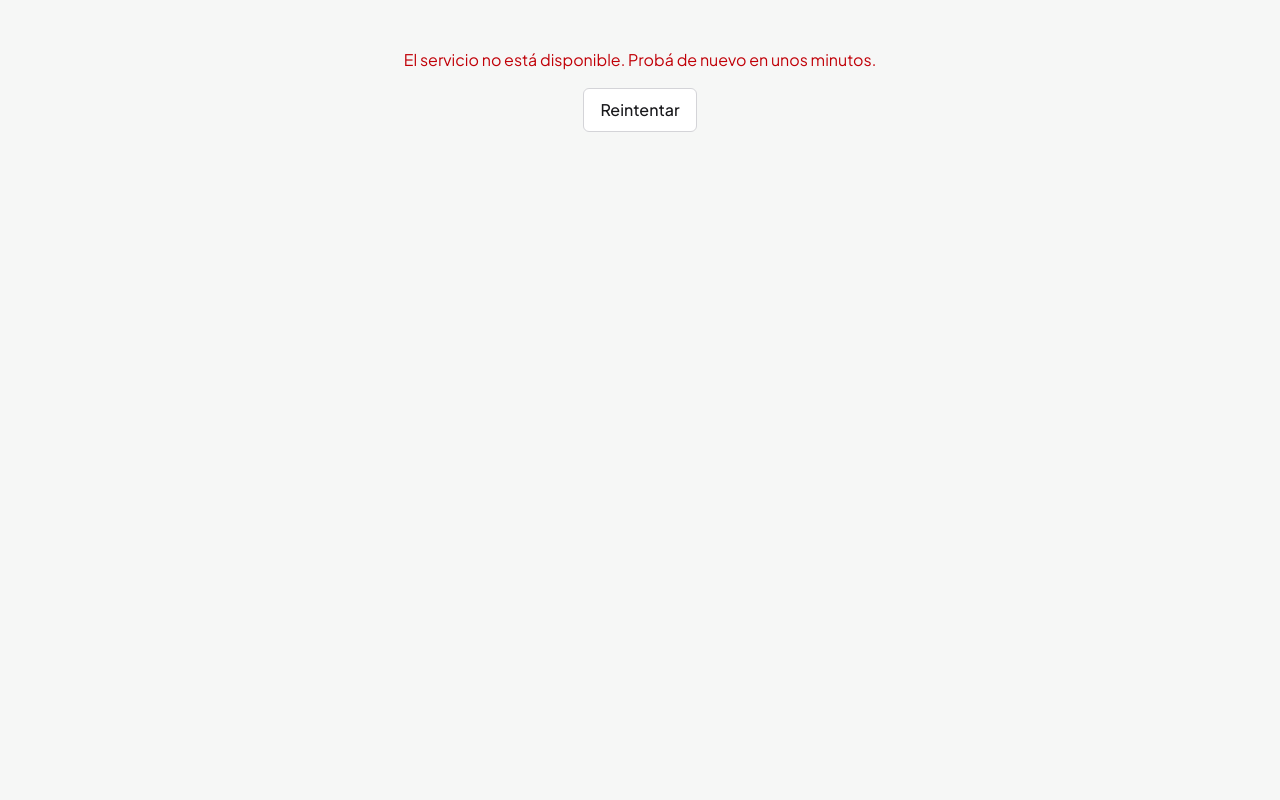
the procedure › another error offers to retry
Click the button "Reintentar" at coordinates (640, 110), box [584, 88, 696, 132]
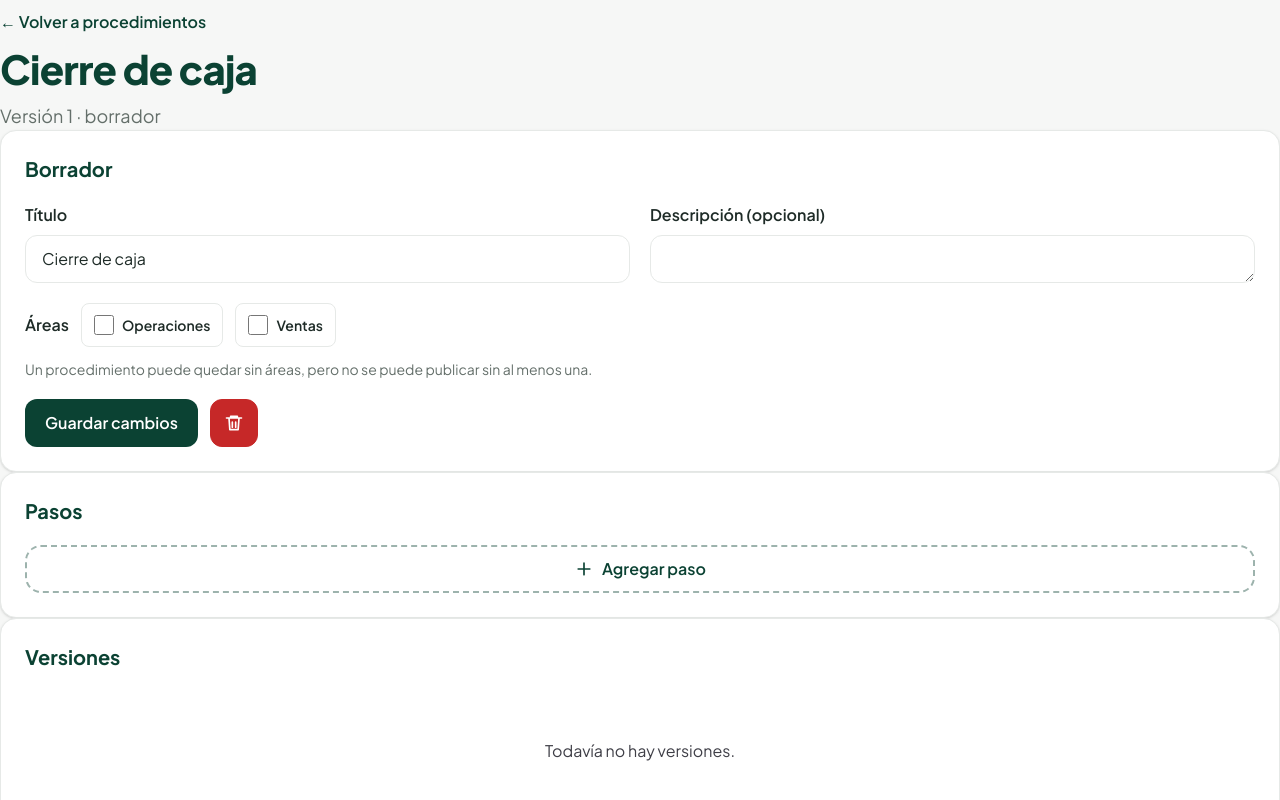
Result: the heading "Cierre de caja" is shown at [0, 44, 257, 94]
